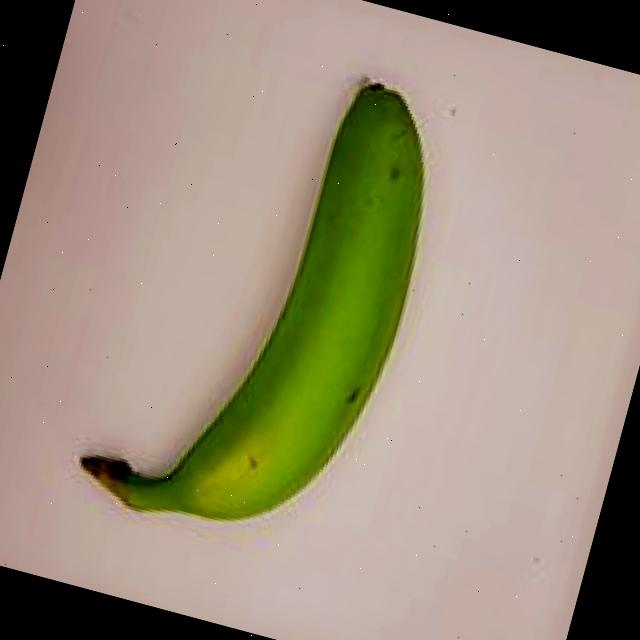Unripe: (54, 12, 494, 590)
